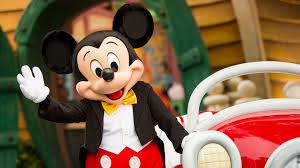mickey: (17, 1, 157, 124)
